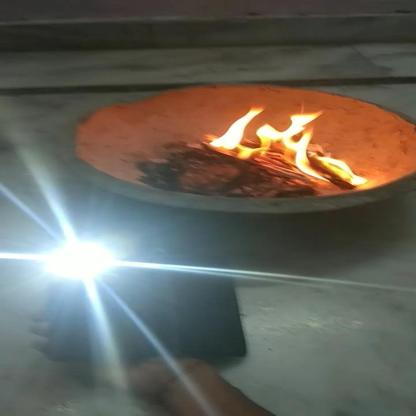fire: (207, 104, 371, 188)
